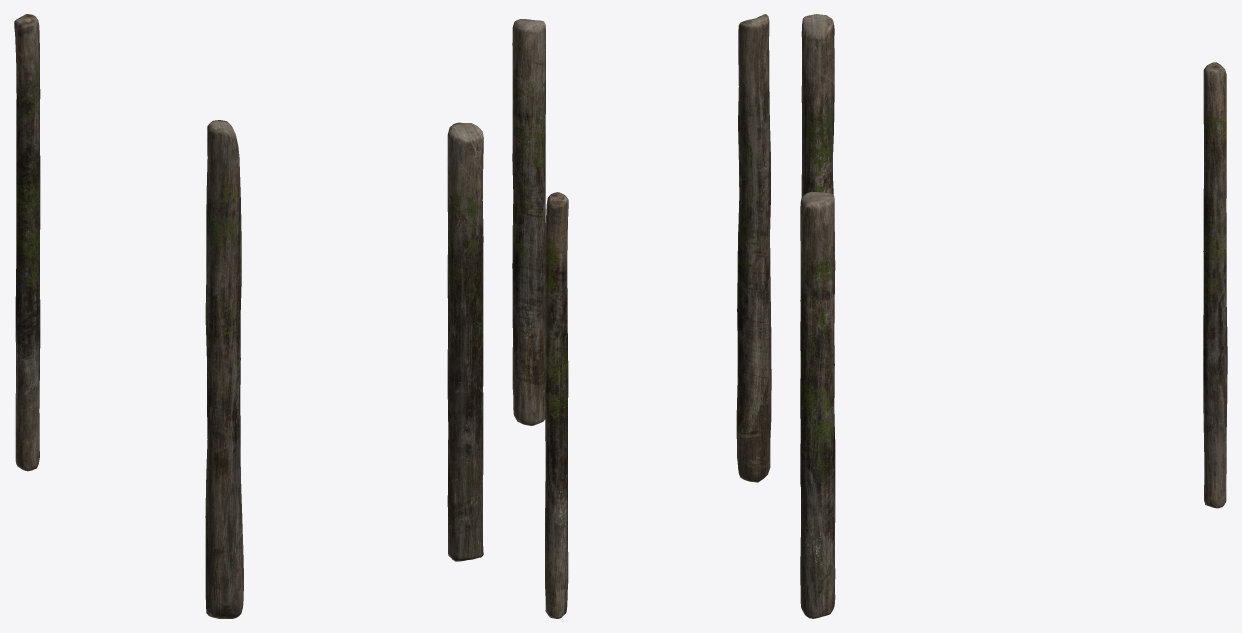
The model's file is modular_wooden_pier_poles.gltf.
3 renders of one model, left to right at view 1: azimuth 30°, elevation 25°; view 2: azimuth 150°, elevation 25°; view 3: azimuth 270°, elevation 25°, orthographic. The views are drawn at different scales.
Parts seen in each view (by area): view 1: modular_wooden_pier_poles__x; view 2: modular_wooden_pier_poles__x; view 3: modular_wooden_pier_poles__x.
Boxes of the visible parts, left/top/right/bottom form: modular_wooden_pier_poles__x: left=14, top=14, right=483, bottom=618; modular_wooden_pier_poles__x: left=512, top=14, right=771, bottom=618; modular_wooden_pier_poles__x: left=800, top=14, right=1227, bottom=618.
Size of the model in its own units: 2.21 by 3.85 by 3.08.
1 material, 1 textured.
